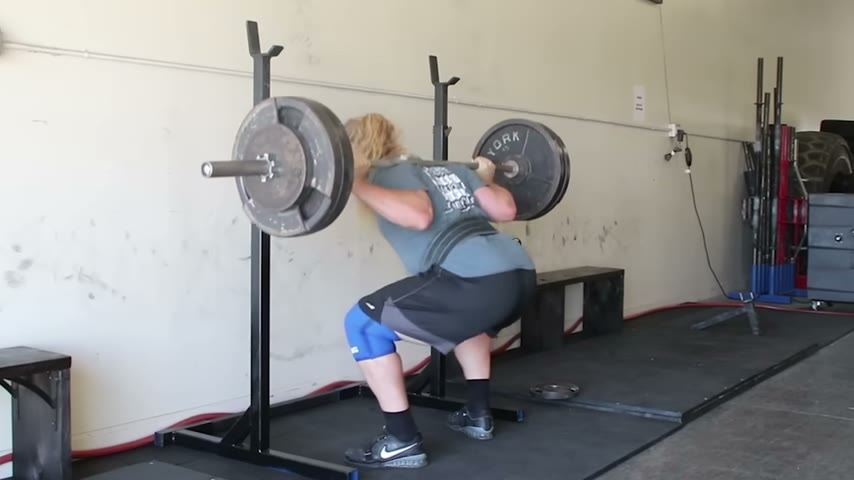barbell_plate_side: (192, 96, 297, 249), (483, 99, 576, 224)
